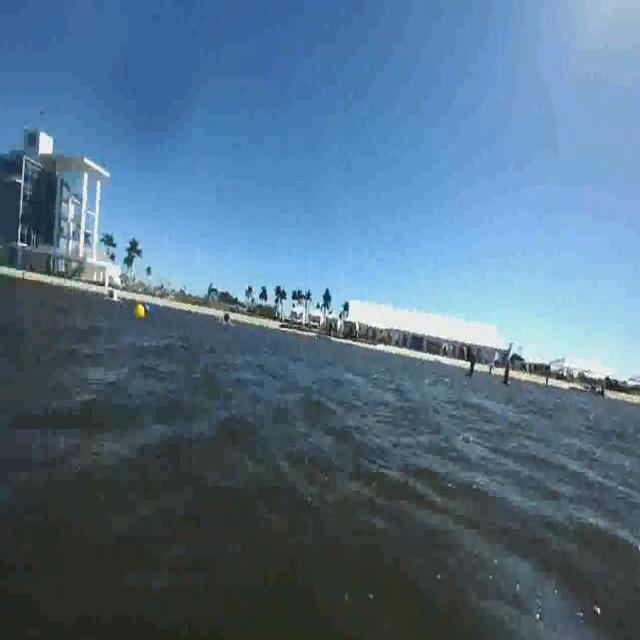yellow-buoy: (136, 303, 147, 321)
